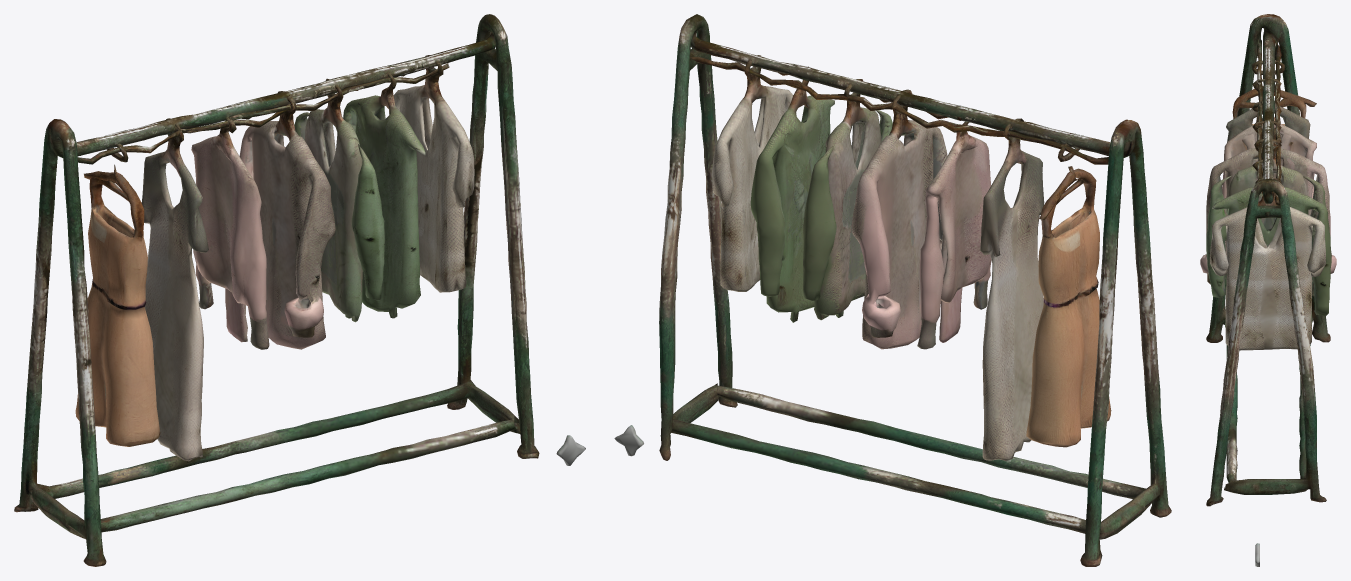
Rendered from Meshy_AI_Garments_on_a_Rusted__0519020121_texture.fbx.
3 views of the same model, side by side, from view 1: azimuth 30°, elevation 25°; view 2: azimuth 150°, elevation 25°; view 3: azimuth 270°, elevation 25° (orthographic). The views are drawn at different scales.
Parts seen in each view (by area): view 1: Mesh_0; view 2: Mesh_0; view 3: Mesh_0.
Part boxes in pixels (<box>): Mesh_0: <box>14,14,585,566</box>; Mesh_0: <box>614,14,1171,566</box>; Mesh_0: <box>1200,14,1336,566</box>.
Size of the model in its own units: 191 by 159 by 54.4.
Materials: 1 (1 with a texture image).
